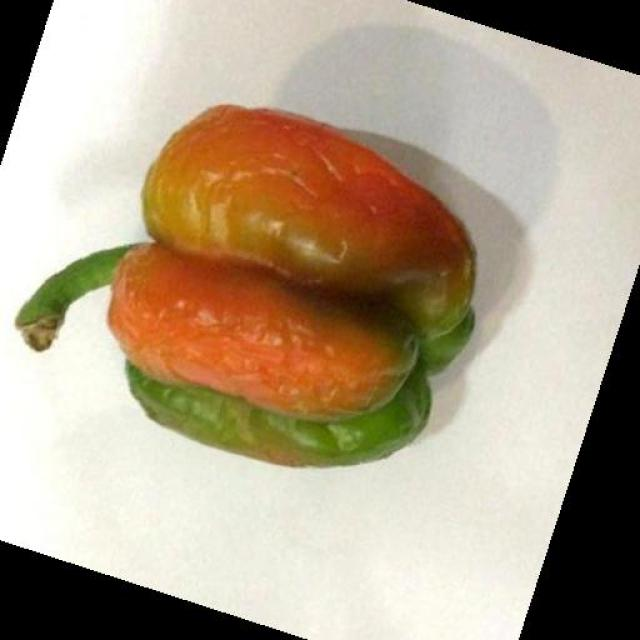Stale_Capsicum: (59, 100, 503, 476)
